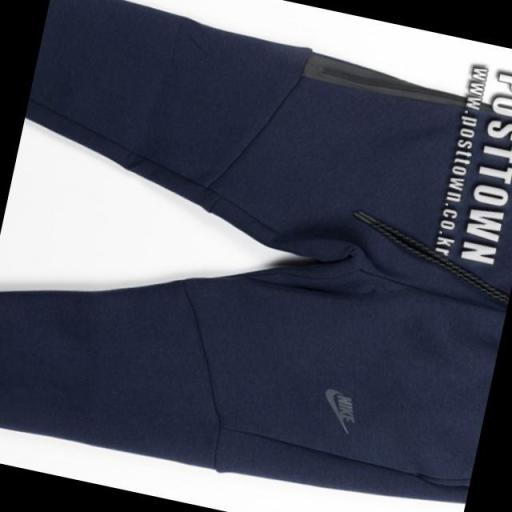Nike: (316, 386, 349, 428), (333, 394, 358, 423)
